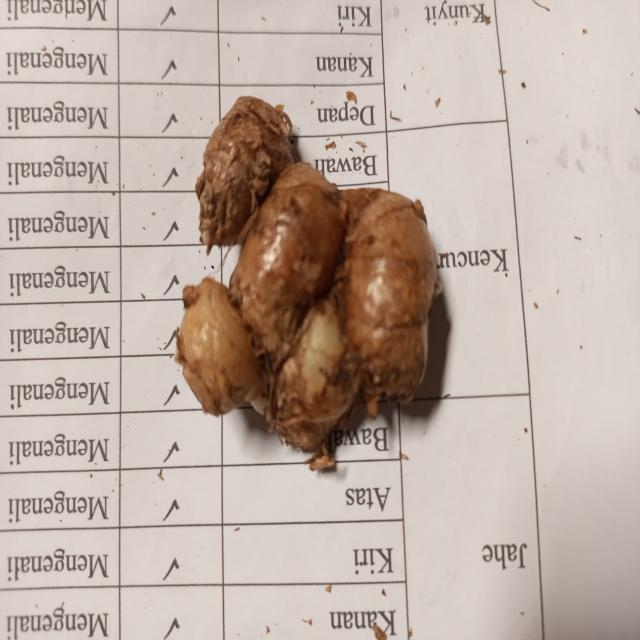ginger: (186, 101, 424, 426)
